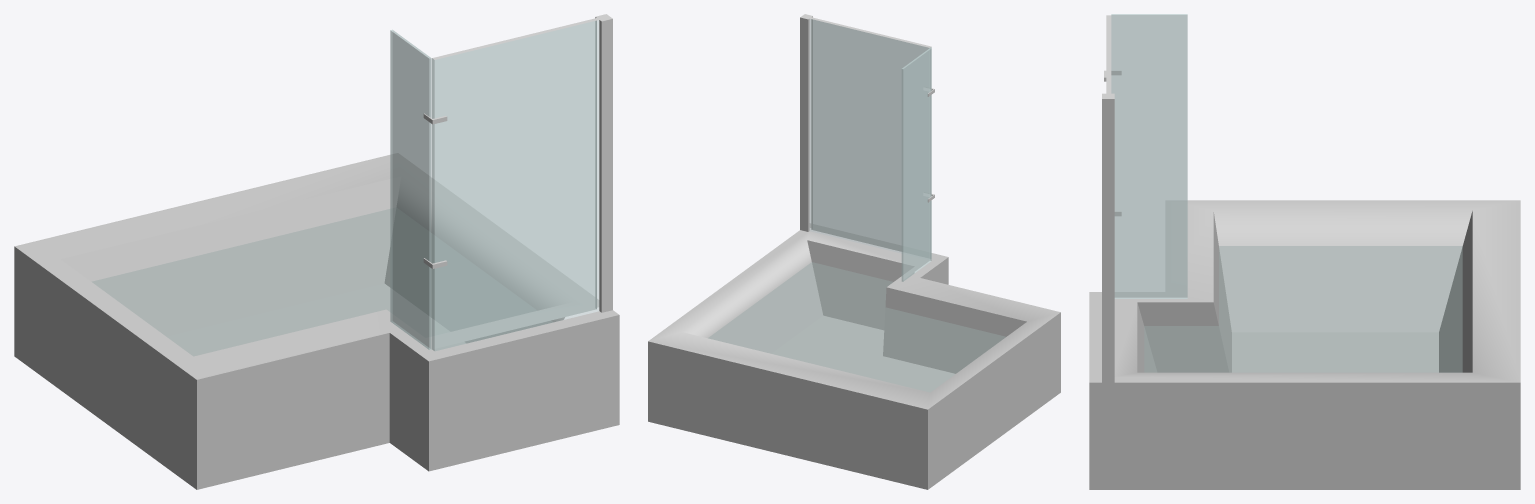
File: sh-contrib-bath-l.glb
The picture shows the model from 3 angles, left to right: view 1: azimuth 30°, elevation 25°; view 2: azimuth 150°, elevation 25°; view 3: azimuth 270°, elevation 25°; orthographic projection. The views are drawn at different scales.
Parts seen in each view (by area): view 1: 1_1, 5_5, 3_3, 4_4; view 2: 1_1, 5_5, 3_3, 4_4; view 3: 1_1, 3_3, 5_5, 4_4.
Boxes of the visible parts, x1,y1,x2,y2 form: 1_1: (14,153,619,489); 5_5: (390,20,599,351); 3_3: (92,209,552,356); 4_4: (423,14,612,312); 1_1: (648,223,1060,489); 5_5: (809,19,931,281); 3_3: (708,262,1005,392); 4_4: (800,14,934,231); 1_1: (1089,99,1520,489); 3_3: (1144,246,1462,372); 5_5: (1111,14,1187,298); 4_4: (1102,15,1121,216).
Bounding box in the file's own units: 1 × 1 × 1.
